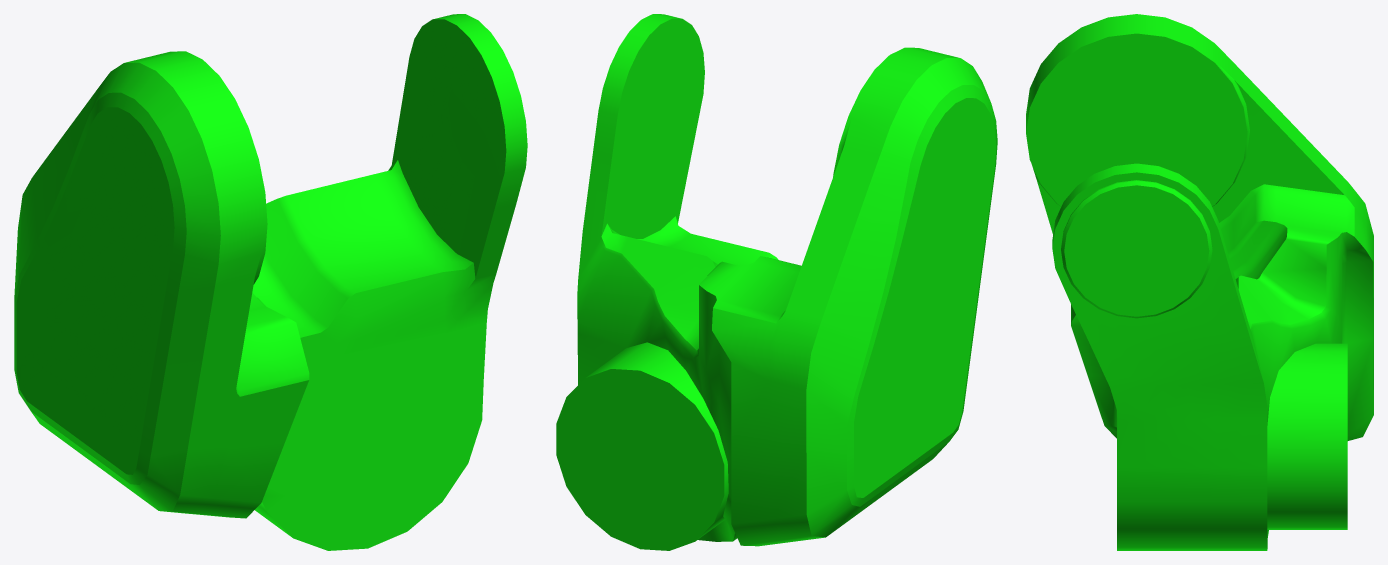
The model's file is RightHipRollLink.obj.
3 renders of one model, left to right at view 1: azimuth 30°, elevation 25°; view 2: azimuth 150°, elevation 25°; view 3: azimuth 270°, elevation 25°, orthographic. The views are drawn at different scales.
Parts seen in each view (by area): view 1: RightHipRollLink_Retopo; view 2: RightHipRollLink_Retopo; view 3: RightHipRollLink_Retopo.
Part boxes in pixels (x1,y1,x2,y2): RightHipRollLink_Retopo: [14, 14, 527, 550]; RightHipRollLink_Retopo: [556, 14, 997, 550]; RightHipRollLink_Retopo: [1026, 14, 1373, 550].
Size of the model in its own units: 0.1327 by 0.1855 by 0.132.
